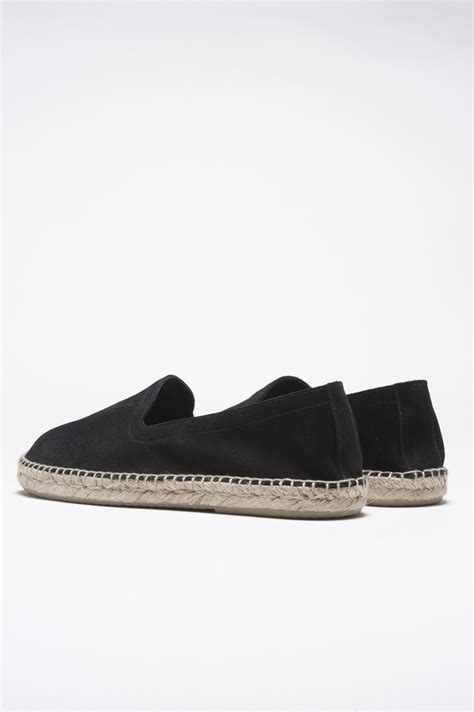gamuza: (28, 376, 446, 481)
